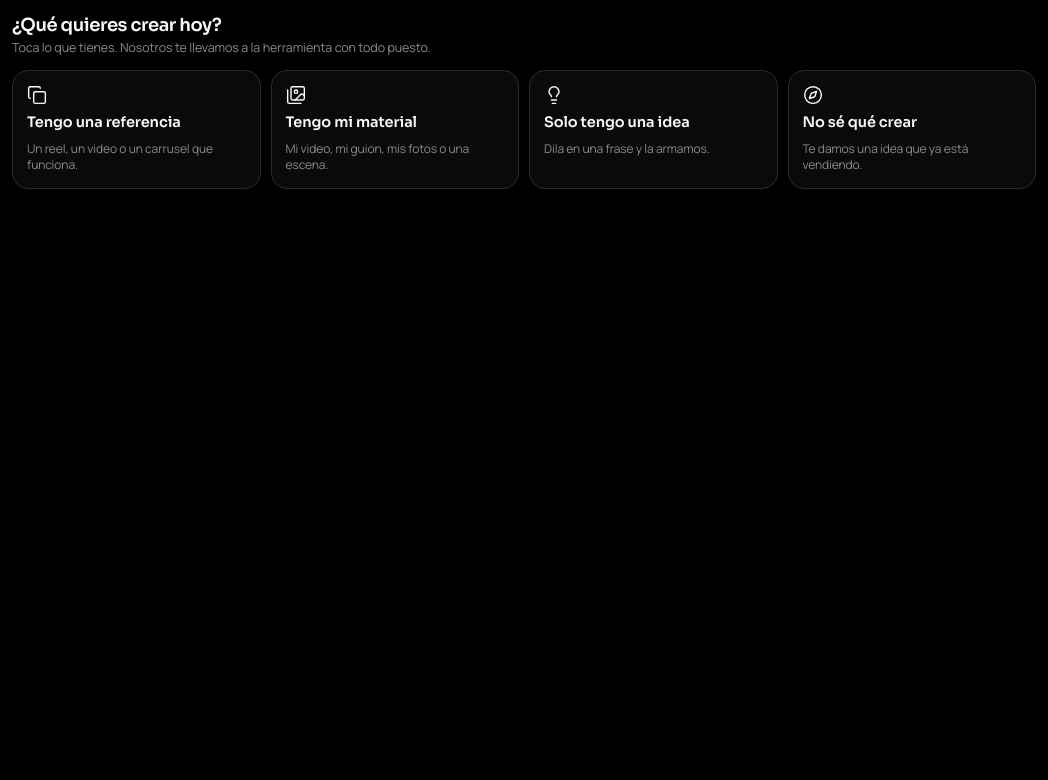
it: ¿Qué quieres crear hoy? · 4 entradas por lo que tienes (Guardián del Creador) › material: un admin ve Mi foto hablando
Step 1. Click the text "Tengo mi material" → [351, 123], box [286,113,417,133]
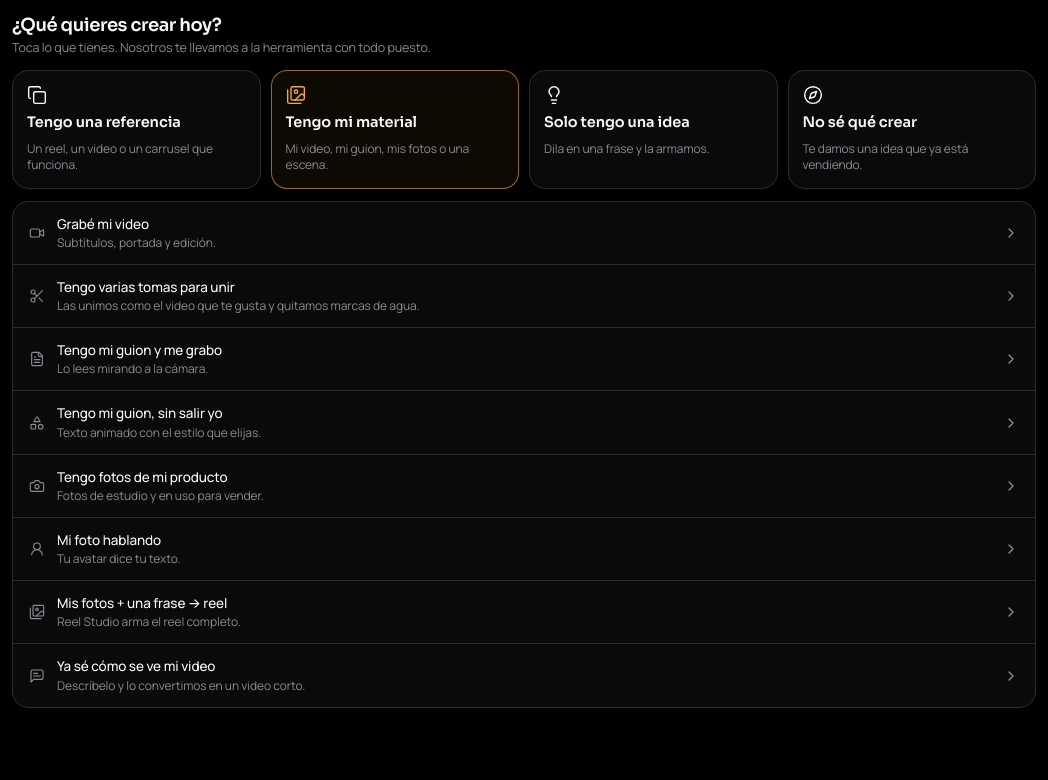
Expected: the text "Mi foto hablando" is shown, [57,531,161,549]
